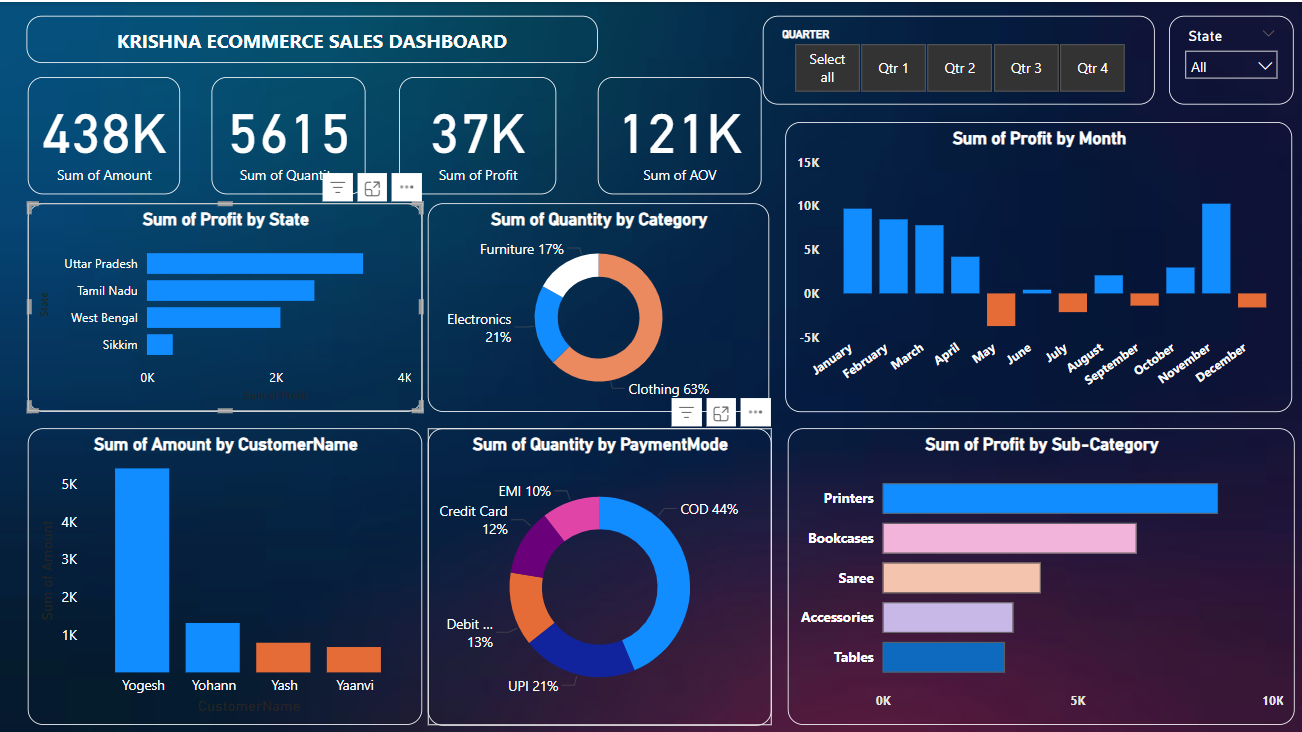

The page's visual inventory and layout, read from the dashboard file:
{"tool":"powerbi","page":{"name":"Page 1","canvas":[1280,720],"ordinal":0},"visuals":[{"type":"columnChart","fields":{"Y":["Details.Profit"],"Category":["Orders.Order Date.Variation.Date Hierarchy.Month"]},"box":[771.2,117.5,497.5,285],"z":0},{"type":"barChart","fields":{"Category":["Details.Sub-Category"],"Y":["Details.Profit"]},"box":[773.8,418.8,497.5,291.2],"z":1000},{"type":"donutChart","fields":{"Category":["Details.Category"],"Y":["Details.Quantity"]},"box":[420.9,197.5,335,204.9],"z":2000},{"type":"donutChart","fields":{"Category":["Details.PaymentMode"],"Y":["Details.Quantity"]},"box":[420.9,418.4,337.4,292],"z":3000},{"type":"card","fields":{"Values":["Details.Amount"]},"box":[28.2,73.6,149.7,115.3],"z":4000},{"type":"card","fields":{"Values":["Details.Quantity"]},"box":[208.6,73.6,150.9,115.3],"z":5000},{"type":"textbox","box":[27,13.5,560.7,46.6],"z":6000},{"type":"card","fields":{"Values":["Details.Profit"]},"box":[392.6,73.6,154.6,115.3],"z":7000},{"type":"card","fields":{"Values":["Details.AOV"]},"box":[587.7,73.6,160.7,115.3],"z":8000},{"type":"barChart","fields":{"Category":["Orders.State"],"Y":["Details.Profit"]},"box":[28.8,197.5,387.5,205],"z":9000},{"type":"columnChart","fields":{"Y":["Details.Amount"],"Category":["Orders.CustomerName"]},"box":[28.8,418.8,387.5,291.2],"z":10000},{"type":"slicer","fields":{"Values":["Orders.Order Date.Variation.Date Hierarchy.Quarter"]},"box":[750,13.8,385,87.5],"z":11000},{"type":"slicer","fields":{"Values":["Orders.State"]},"box":[1148.8,13.8,122.5,87.5],"z":12000}]}

Visuals, with their boxes in screenshot pixels (x1, y1, x2, y2), scaled from the page's 1280x720 canvas onto the 1302x732 screenshot:
columnChart - Details.Profit x Orders.Order Date.Variation.Date Hierarchy.Month: [784, 119, 1291, 409]
barChart - Details.Sub-Category x Details.Profit: [787, 426, 1293, 722]
donutChart - Details.Category x Details.Quantity: [428, 201, 769, 409]
donutChart - Details.PaymentMode x Details.Quantity: [428, 425, 771, 722]
card - Details.Amount: [29, 75, 181, 192]
card - Details.Quantity: [212, 75, 366, 192]
textbox: [27, 14, 598, 61]
card - Details.Profit: [399, 75, 557, 192]
card - Details.AOV: [598, 75, 761, 192]
barChart - Orders.State x Details.Profit: [29, 201, 423, 409]
columnChart - Details.Amount x Orders.CustomerName: [29, 426, 423, 722]
slicer - Orders.Order Date.Variation.Date Hierarchy.Quarter: [763, 14, 1155, 103]
slicer - Orders.State: [1169, 14, 1293, 103]
